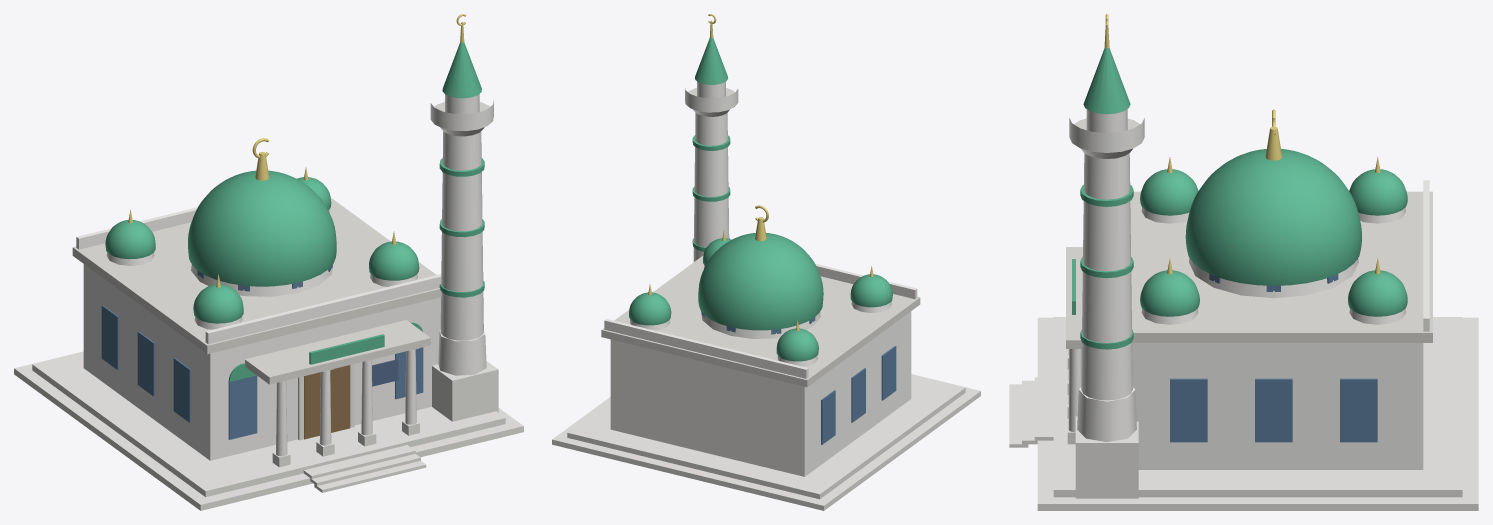
Rendered from masjid_kampus_model.glb.
The picture shows the model from 3 angles, left to right: view 1: azimuth 30°, elevation 25°; view 2: azimuth 150°, elevation 25°; view 3: azimuth 270°, elevation 25°; orthographic projection. The views are drawn at different scales.
Parts seen in each view (by area): view 1: Masjid_Kampus, Layar_Jadwal_Sholat; view 2: Masjid_Kampus; view 3: Masjid_Kampus.
Part boxes in pixels (box(x1,y1,x2,y2)): Masjid_Kampus: box(14, 14, 523, 510); Layar_Jadwal_Sholat: box(372, 359, 398, 386); Masjid_Kampus: box(552, 14, 980, 510); Masjid_Kampus: box(1009, 14, 1478, 510).
Size of the model in its own units: 14 by 16.74 by 14.9.
